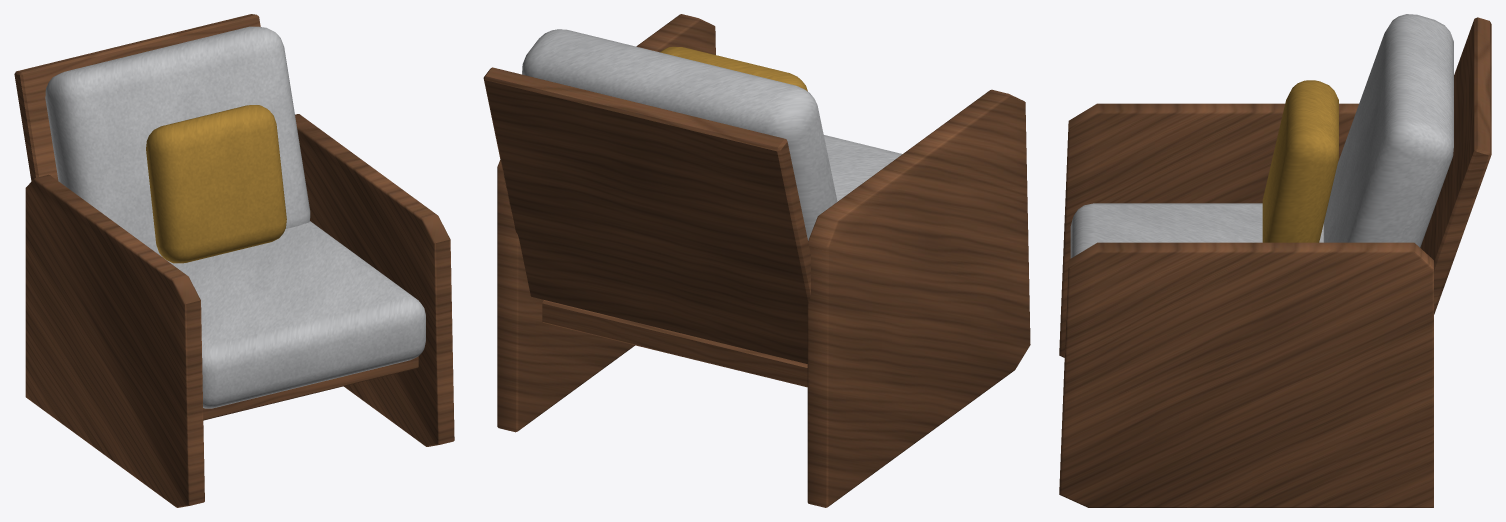
File: lounge-armchair.glb
3 renders of one model, left to right at view 1: azimuth 30°, elevation 25°; view 2: azimuth 150°, elevation 25°; view 3: azimuth 270°, elevation 25°, orthographic. The views are drawn at different scales.
Visible parts, largest first — view 1: Modern_Lounge_Armchair; view 2: Modern_Lounge_Armchair; view 3: Modern_Lounge_Armchair.
Boxes of the visible parts, <box> form: Modern_Lounge_Armchair: <box>14,14,454,507</box>; Modern_Lounge_Armchair: <box>483,14,1030,507</box>; Modern_Lounge_Armchair: <box>1059,14,1491,507</box>.
Size of the model in its own units: 0.78 by 0.8965 by 0.9578.
Materials: 3 (3 with a texture image).
